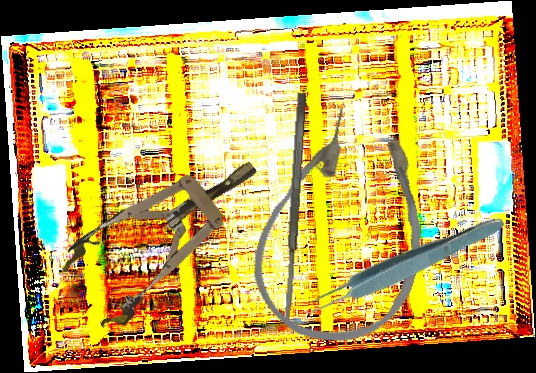Cannula: (237, 94, 455, 362)
Spatula Surgical: (280, 92, 309, 322)
Speculum: (51, 129, 284, 337)
Tissue Forceps: (300, 208, 509, 322)
